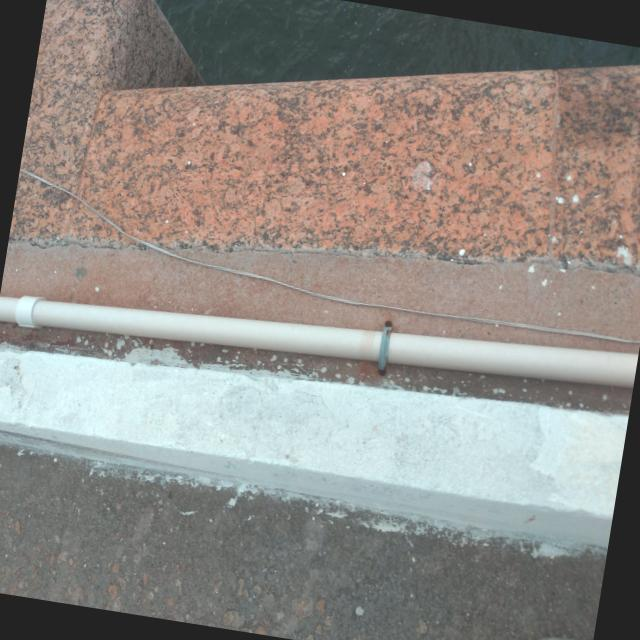gas: (0, 249, 639, 423)
